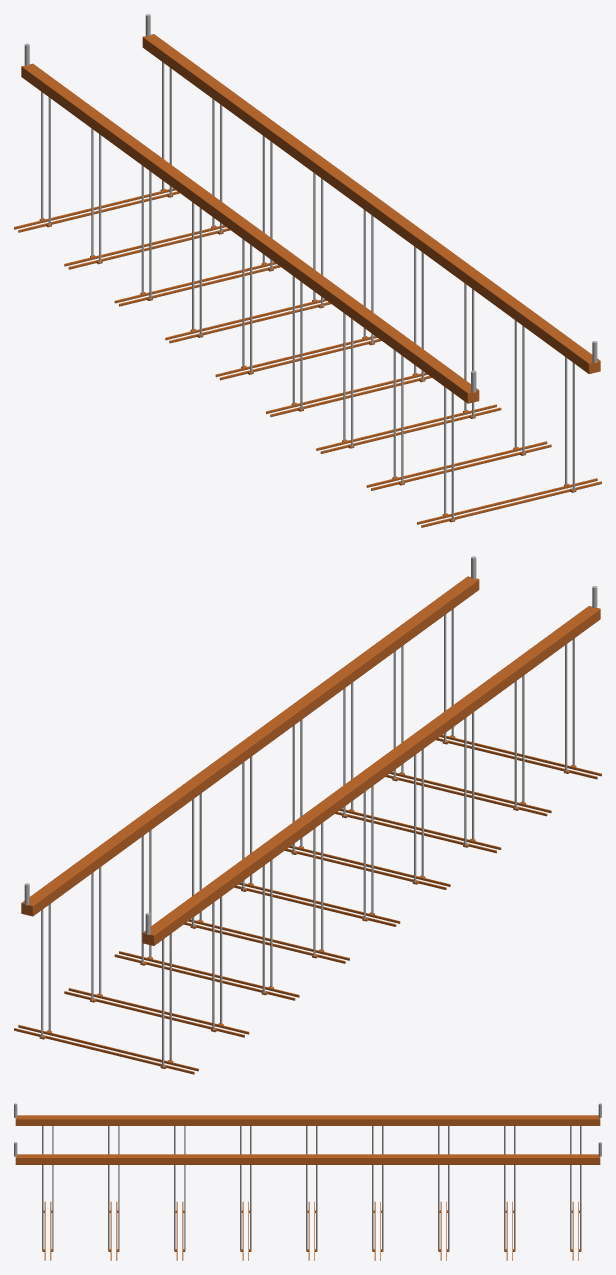
File: stacker_stick_gates.glb
3 renders of one model, top to bottom at view 1: azimuth 30°, elevation 25°; view 2: azimuth 150°, elevation 25°; view 3: azimuth 270°, elevation 25°, orthographic. The views are drawn at different scales.
Visible parts, largest first — view 1: StickGates, StickGateRods; view 2: StickGates, StickGateRods; view 3: StickGates, StickGateRods.
Part boxes in pixels (x1=…): StickGates: x1=14, y1=34, x2=601, y2=527; StickGateRods: x1=24, y1=14, x2=597, y2=520; StickGates: x1=14, y1=576, x2=601, y2=1074; StickGateRods: x1=24, y1=556, x2=597, y2=1067; StickGates: x1=15, y1=1115, x2=600, y2=1260; StickGateRods: x1=14, y1=1103, x2=601, y2=1250.
Size of the model in its own units: 1.22 by 1.07 by 5.27.
